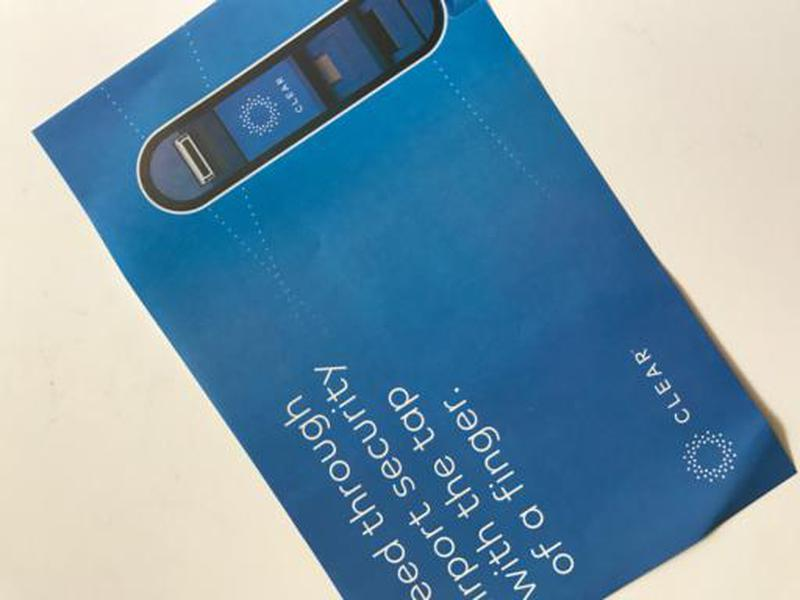paper: (23, 1, 800, 600)
